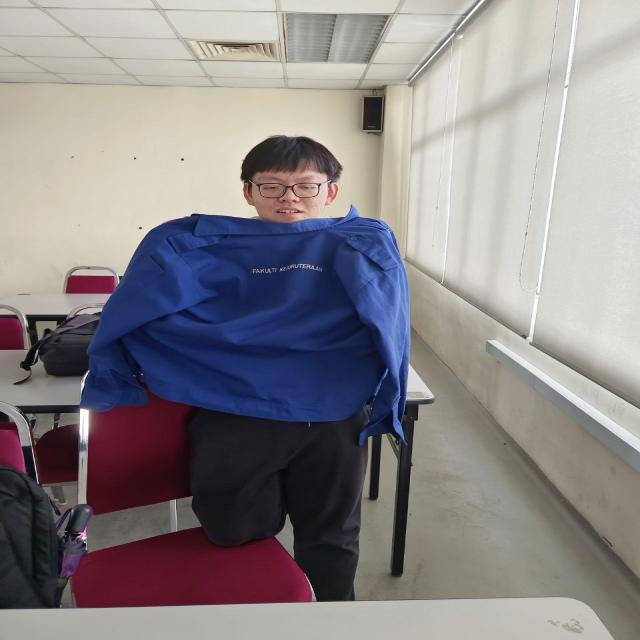person_without_labcoat: (81, 136, 409, 600)
